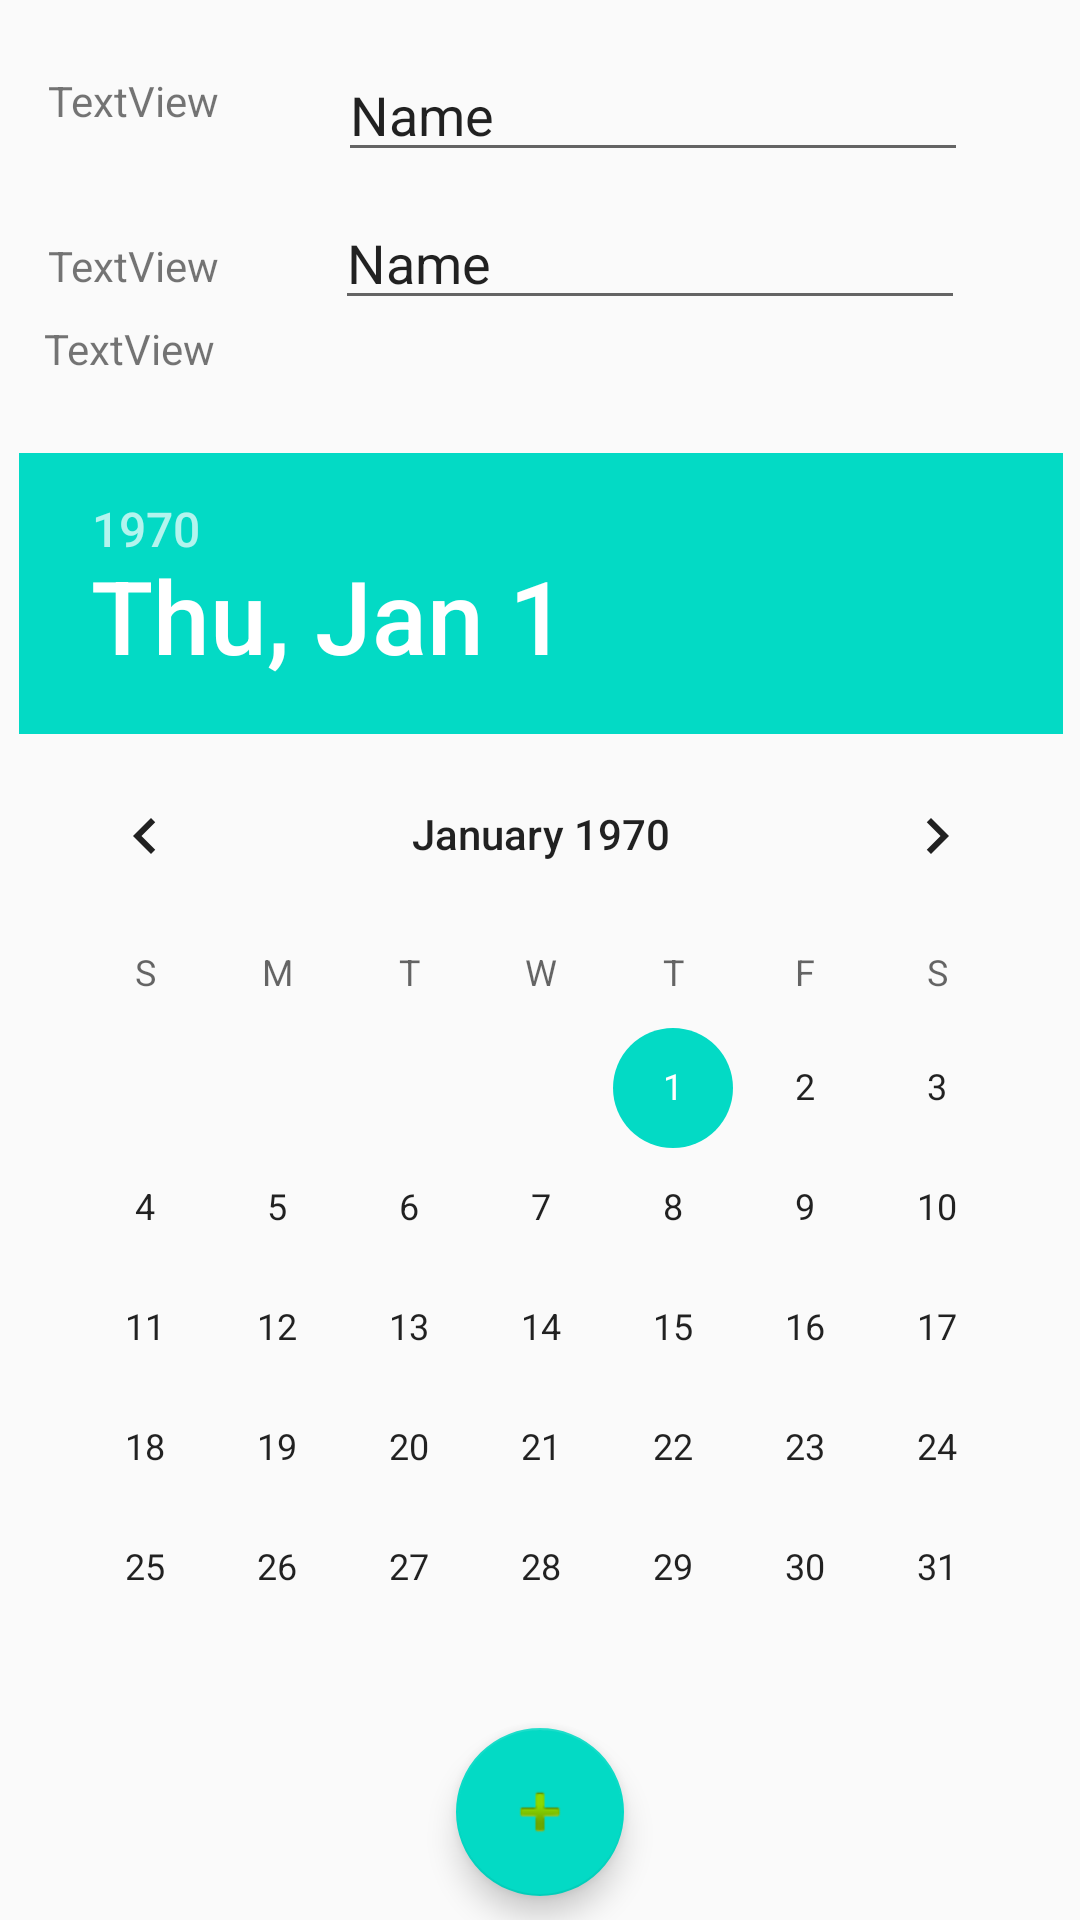

Screen size 1080×1920. Icon name, then its center in pixels as (x,y):
add: (540,1812)
